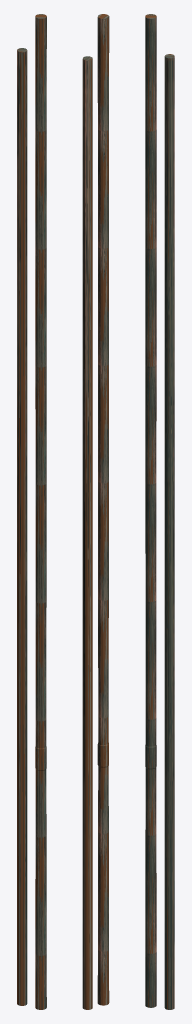
Rendered from SM_pipeL.fbx.
3 views of the same model, side by side, from view 1: azimuth 90°, elevation 25°; view 2: azimuth 150°, elevation 25°; view 3: azimuth 270°, elevation 25° (orthographic).
Parts seen in each view (by area): view 1: SM_pipe2; view 2: SM_pipe2; view 3: SM_pipe2.
Part boxes in pixels (x1,y1,x2,y2): SM_pipe2: (17,14,46,1009); SM_pipe2: (82,14,109,1009); SM_pipe2: (145,14,174,1009).
Size of the model in its own units: 19.56 by 1195 by 32.46.
